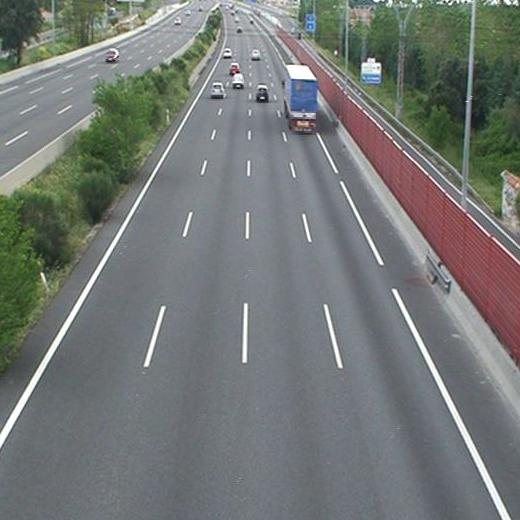car: (210, 83, 224, 98), (256, 85, 269, 101), (233, 74, 245, 89), (229, 63, 240, 73), (251, 50, 261, 59), (223, 48, 232, 58)
truck: (283, 65, 317, 131)
